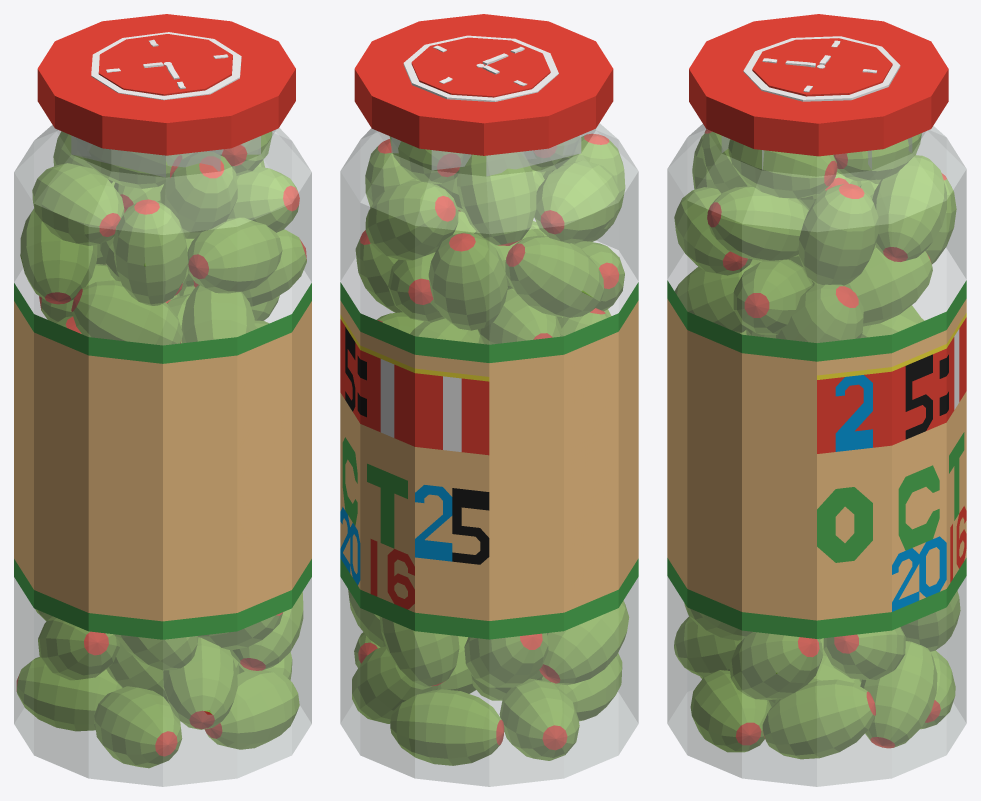
Rendered from zeytin.glb.
3 renders of one model, left to right at view 1: azimuth 30°, elevation 25°; view 2: azimuth 150°, elevation 25°; view 3: azimuth 270°, elevation 25°, orthographic.
Visible parts, largest first — view 1: group705152463, group2129543199, group1366253818, group1272805241, group1851808117, group1265330142, group569578995, group865691200, group510037403, group1019028537, group1520888139, group1286699100 (+14 smaller); view 2: group705152463, group2129543199, group1366253818, group224946586, group1819833289, group907160184, group663871711, group280193109, group1851808117, group1286699100, group1517792374, group936835706 (+16 smaller); view 3: group705152463, group2129543199, group1366253818, group1733349248, group1747259027, group280193109, group754857137, group1220276108, group1063606863, group510037403, group1640129682, group1286556429 (+15 smaller).
Part boxes in pixels (x1,y1,x2,y2): group705152463: (14, 125, 311, 786); group2129543199: (37, 14, 295, 155); group1366253818: (91, 32, 241, 100); group1272805241: (113, 199, 188, 305); group1851808117: (32, 163, 124, 245); group1265330142: (187, 217, 282, 293); group569578995: (94, 686, 181, 768); group865691200: (71, 280, 182, 345); group510037403: (205, 670, 299, 749); group1019028537: (163, 637, 237, 729); group1520888139: (160, 152, 237, 238); group1286699100: (16, 657, 121, 731); group705152463: (340, 123, 638, 786); group2129543199: (354, 14, 613, 155); group1366253818: (403, 35, 558, 101); group224946586: (390, 689, 504, 765); group1819833289: (505, 235, 603, 317); group907160184: (428, 232, 507, 330); group663871711: (457, 152, 536, 245); group280193109: (365, 181, 458, 260); group1851808117: (534, 160, 619, 243); group1286699100: (499, 679, 579, 760); group1517792374: (539, 600, 628, 685); group936835706: (464, 633, 548, 687); group705152463: (667, 124, 966, 786); group2129543199: (689, 14, 948, 156); group1366253818: (743, 36, 900, 101); group1733349248: (762, 679, 875, 759); group1747259027: (799, 184, 878, 285); group280193109: (872, 155, 946, 261); group754857137: (707, 186, 808, 260); group1220276108: (860, 641, 937, 748); group1063606863: (729, 632, 822, 699); group510037403: (690, 670, 771, 752); group1640129682: (733, 259, 812, 334); group1286556429: (728, 139, 837, 198).
Bounding box in the file's own units: 0.83 × 2.03 × 0.83.
